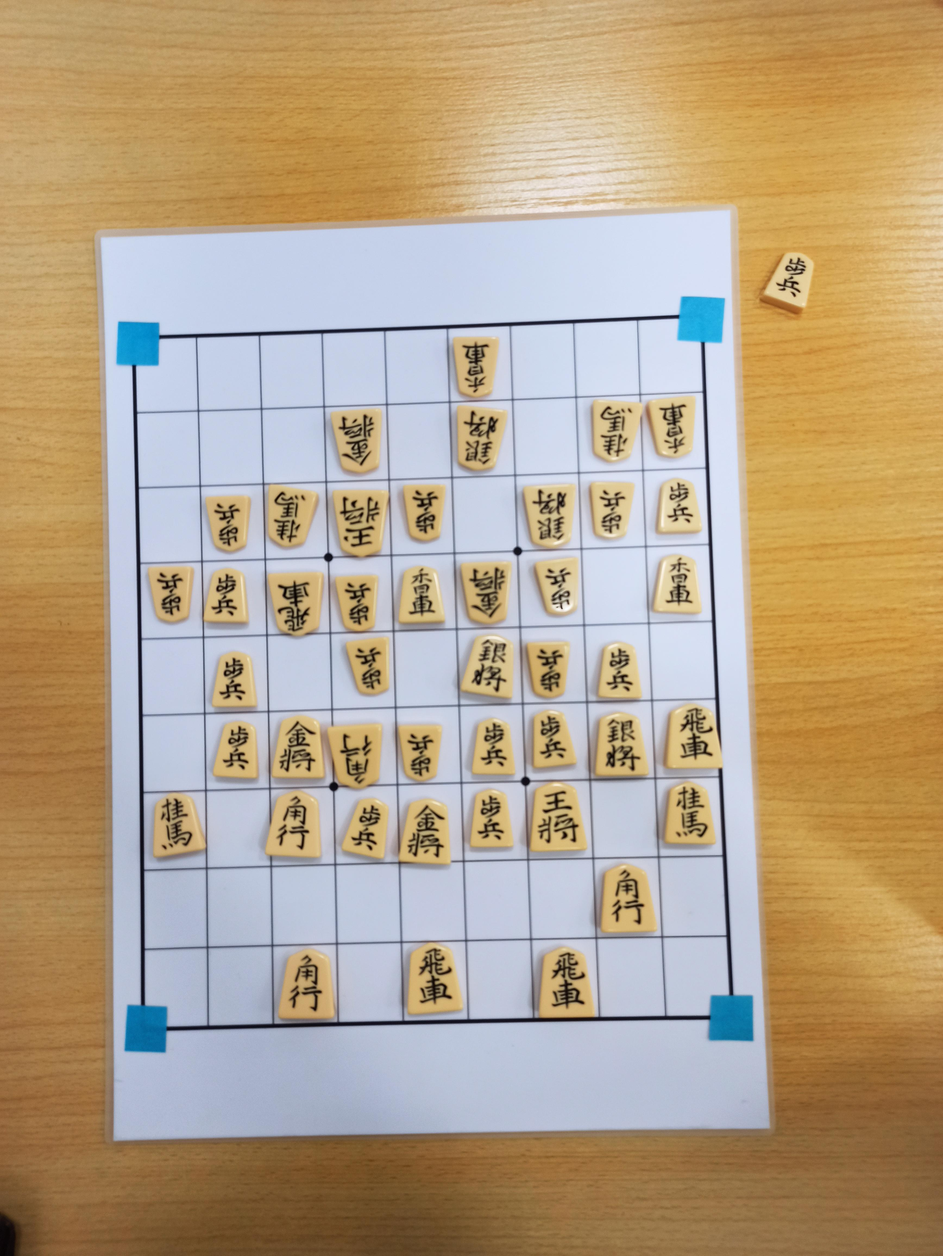board: (132, 315, 732, 1029)
